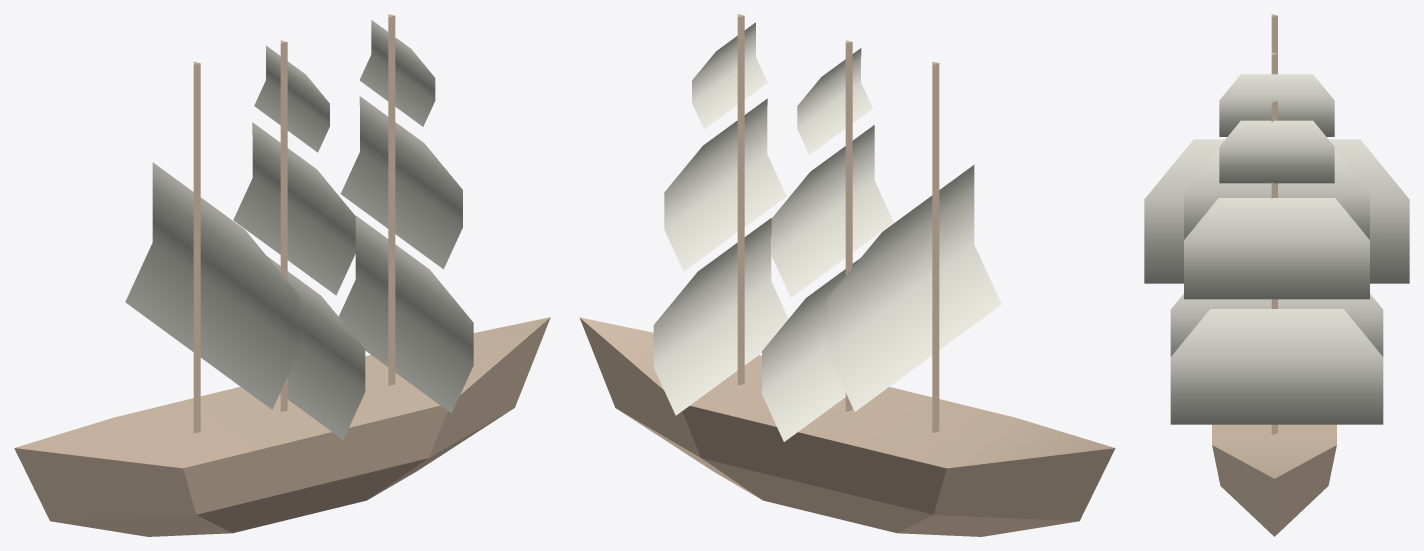
The model's file is playerBoat.fbx.
3 renders of one model, left to right at view 1: azimuth 30°, elevation 25°; view 2: azimuth 150°, elevation 25°; view 3: azimuth 270°, elevation 25°, orthographic. The views are drawn at different scales.
Parts seen in each view (by area): view 1: pPlane26; view 2: pPlane26; view 3: pPlane26.
Boxes of the visible parts, left/top/right/bottom form: pPlane26: left=14, top=14, right=550, bottom=536; pPlane26: left=579, top=14, right=1115, bottom=536; pPlane26: left=1144, top=14, right=1409, bottom=536.
Size of the model in its own units: 8.7 by 7.16 by 4.13.
